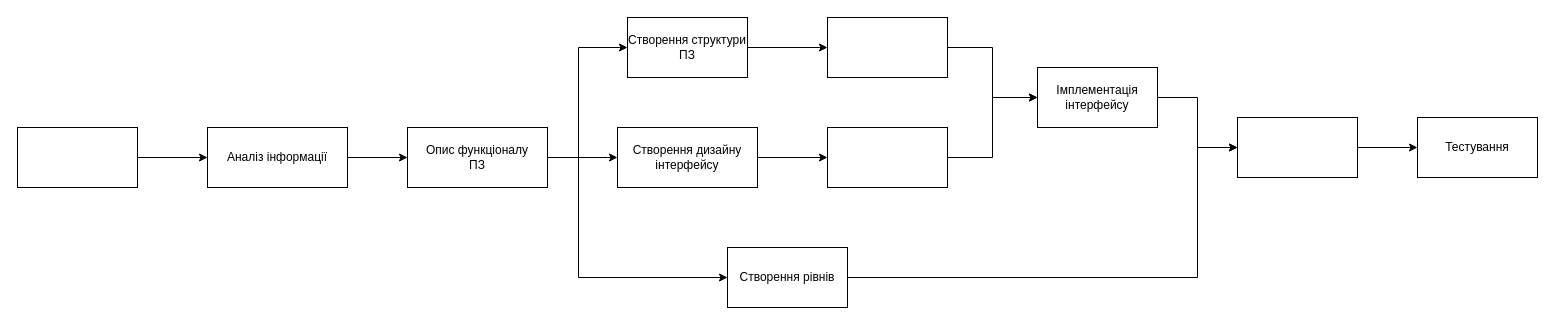
Image size: 1555x325. Some labels were removed from this diagram. The shapes that lost their labels are listed below. From the top down, each one's centre as x and y in pixels, then its label:
pixel 887 47: Програмування програми
pixel 77 157: Збір необхідної інформаціх
pixel 887 157: Верстка інтерфесу
pixel 1297 147: Імплементація рівнів
